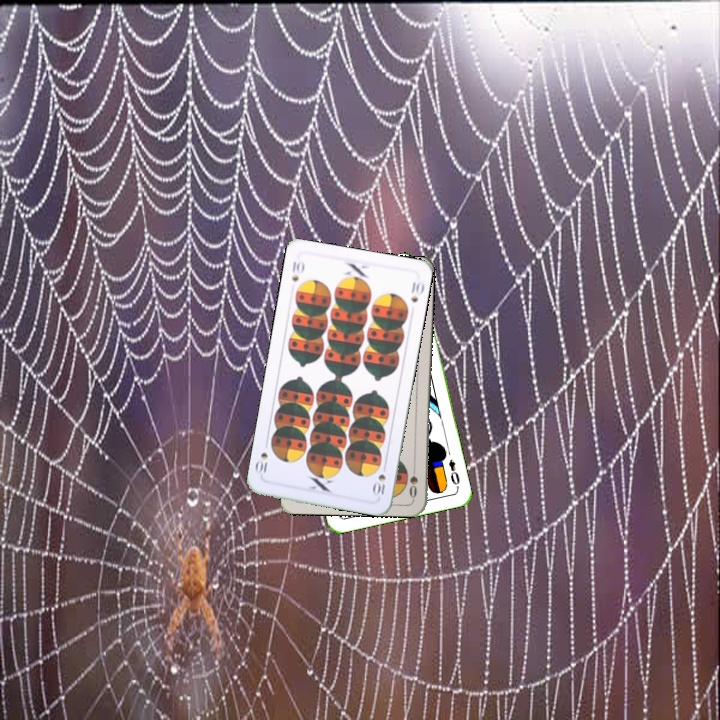EO: (444, 455, 462, 491)
S10: (370, 460, 389, 500), (288, 257, 307, 284)
SO: (405, 460, 420, 500)
